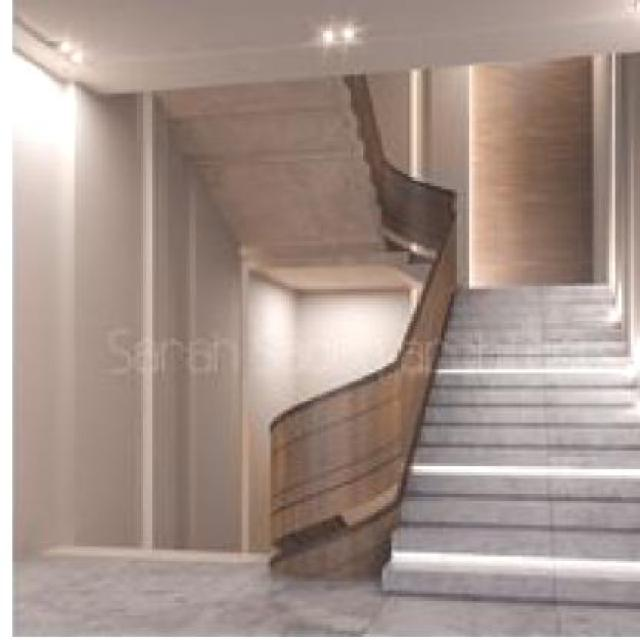stair: (345, 208, 637, 615)
